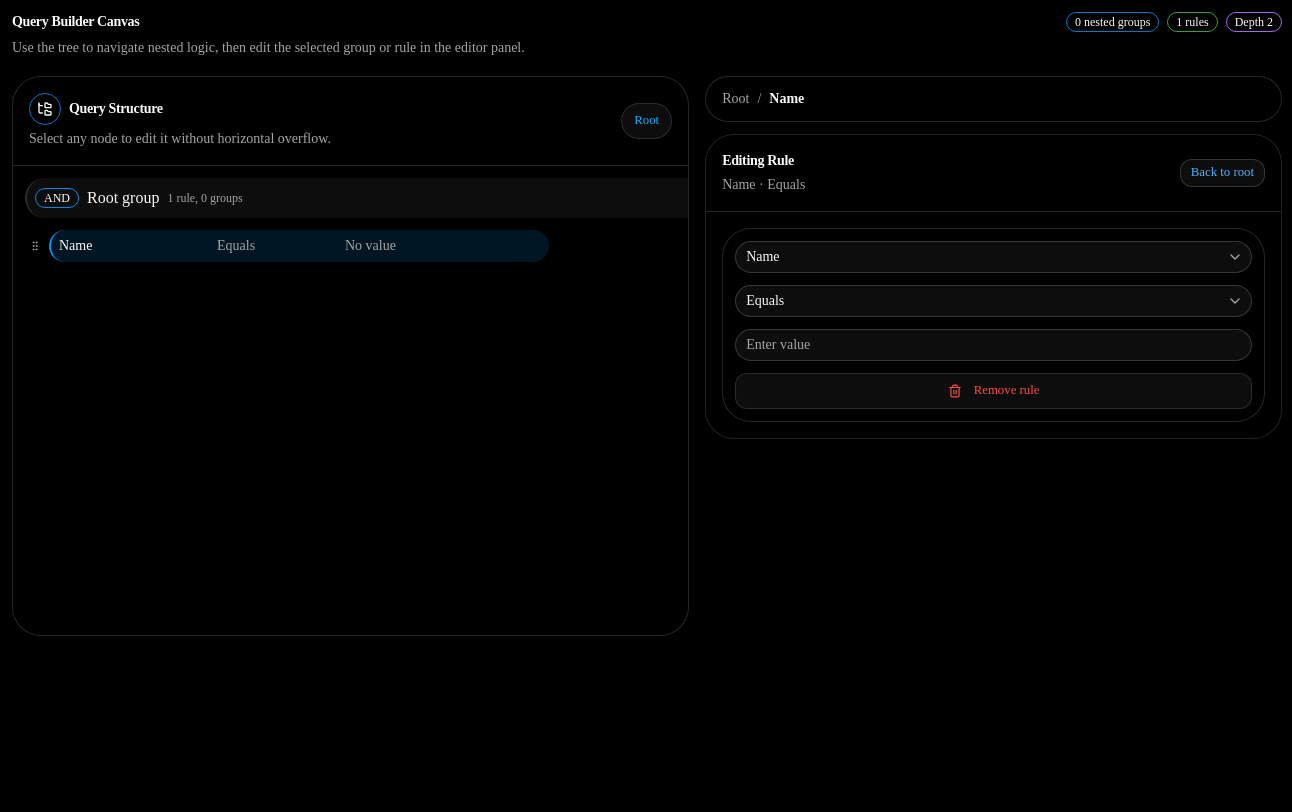
Test: QueryBuilder › collapses and expands a selected nested group
The width and height of the screenshot is (1292, 812).
Step 1. Click the button "Back to root" → x=1222, y=173, box 1180,159 -> 1265,187
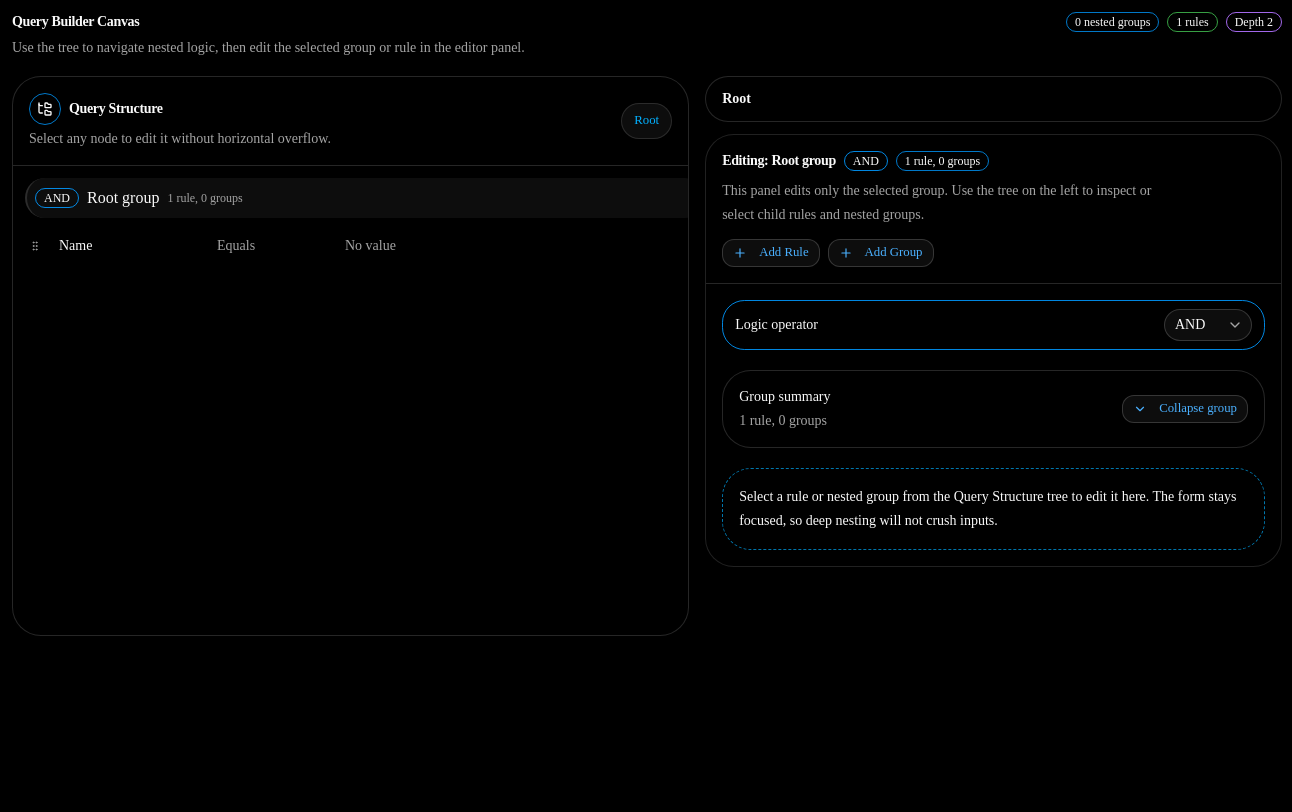
Step 2. Click the button "Add Group" → x=881, y=253, box 828,239 -> 934,267
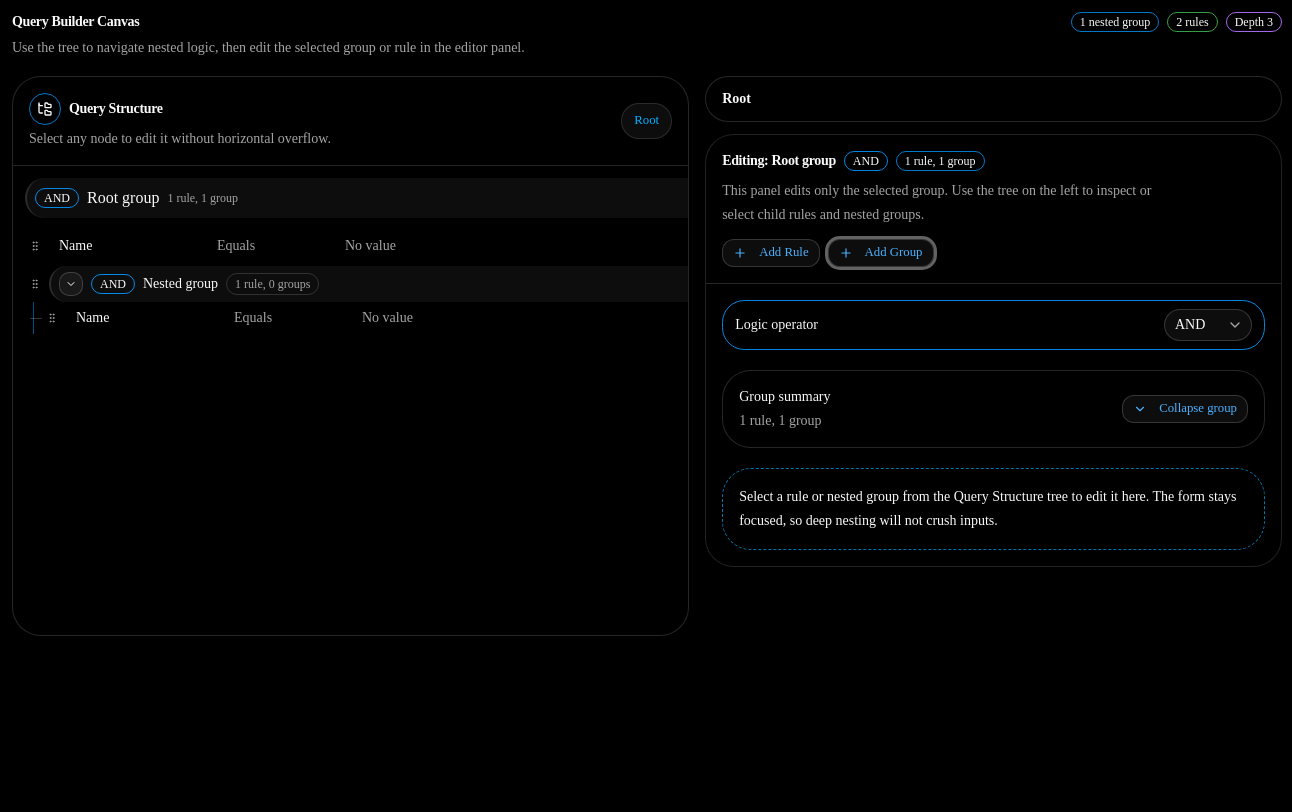
Step 3. Click the text "Nested group" → x=180, y=284, box 143,274 -> 218,294
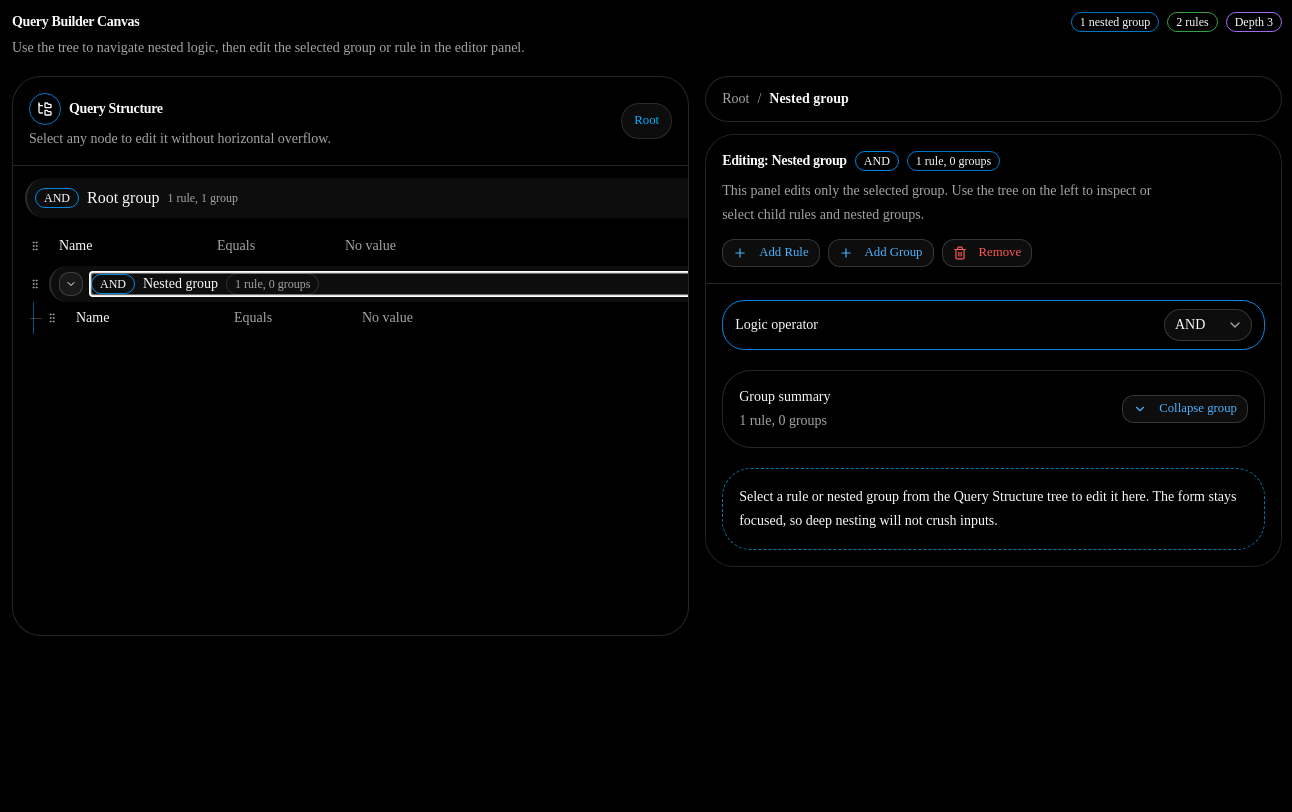
Expected: the element with test id "selected-group-editor" is shown, 705,134 -> 1282,567
Step 4. Click the button "Collapse group" → x=1185, y=409, box 1122,395 -> 1248,423
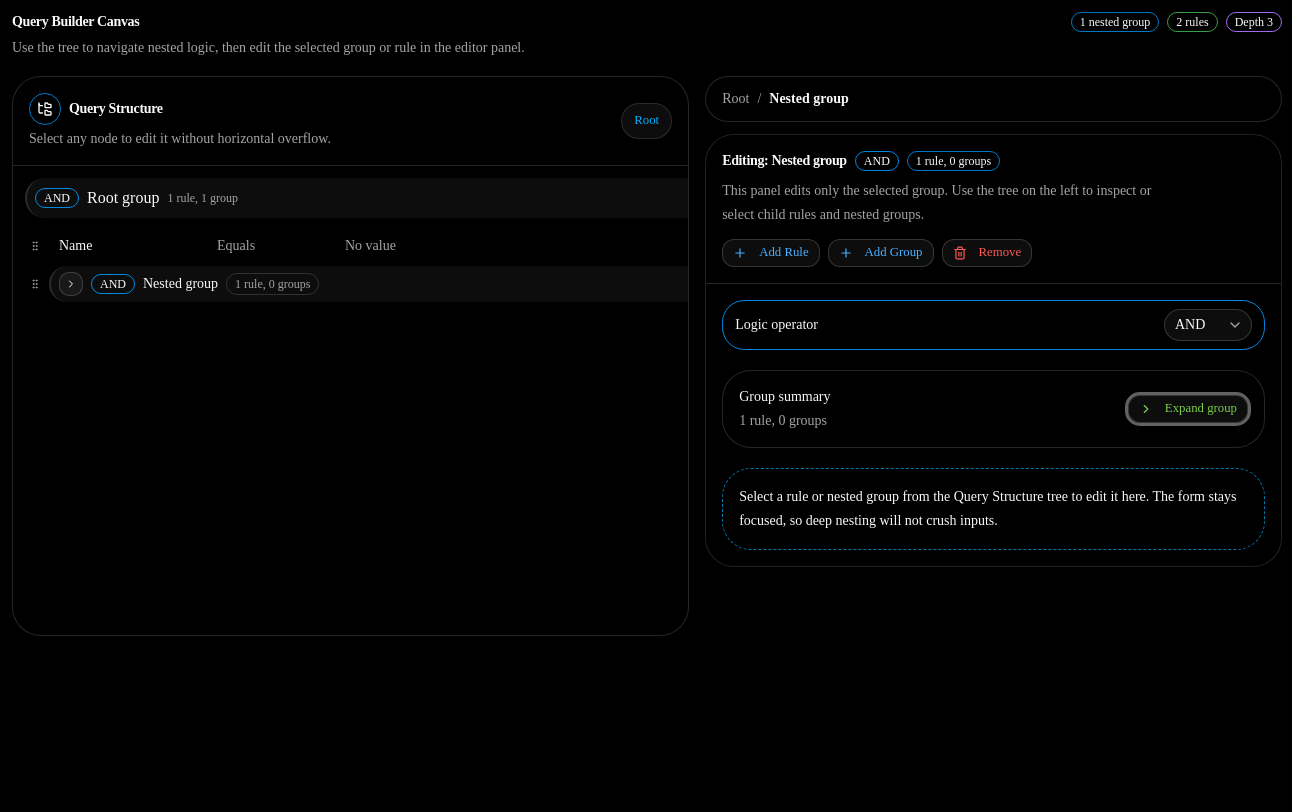
Expected: the button "Expand group" is shown
Step 5. Click the button "Expand group" → x=1188, y=409, box 1128,395 -> 1248,423
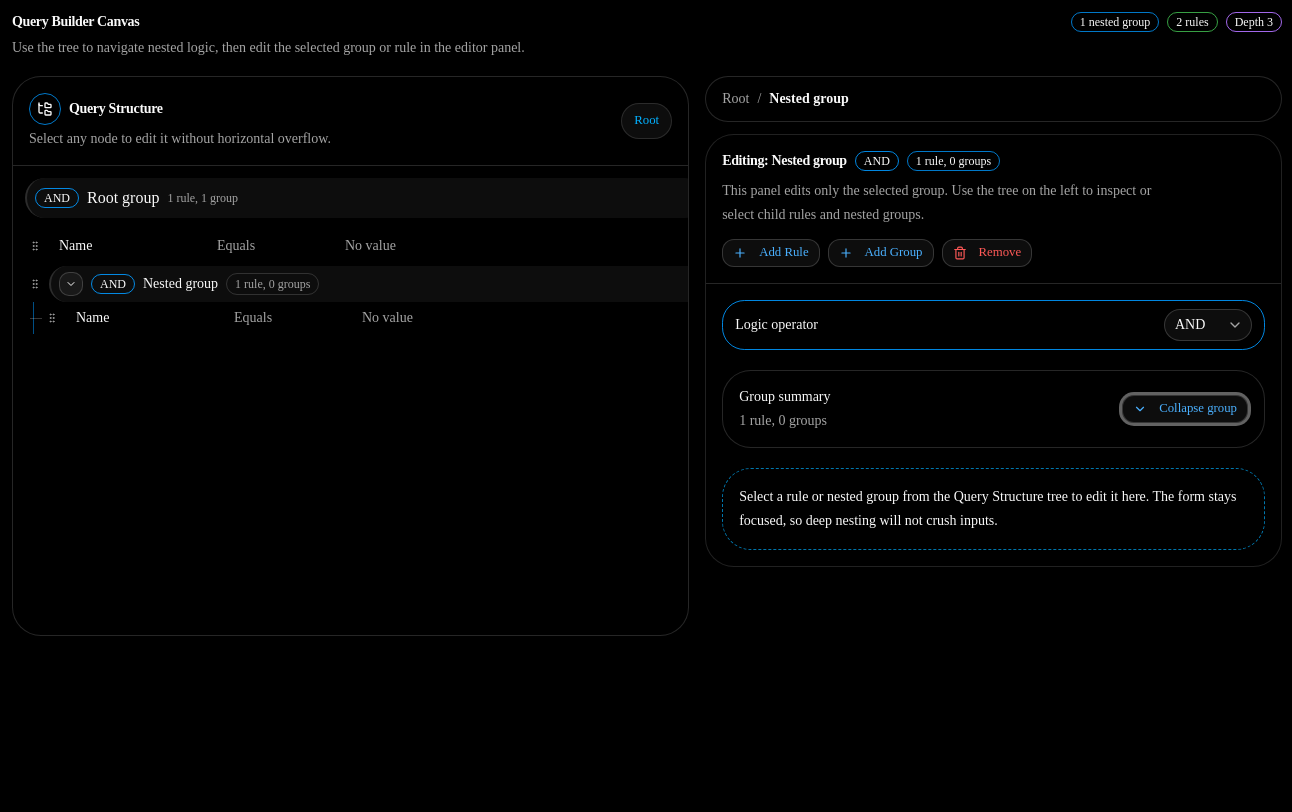
Expected: the button "Collapse group" is shown, 1122,395 -> 1248,423
